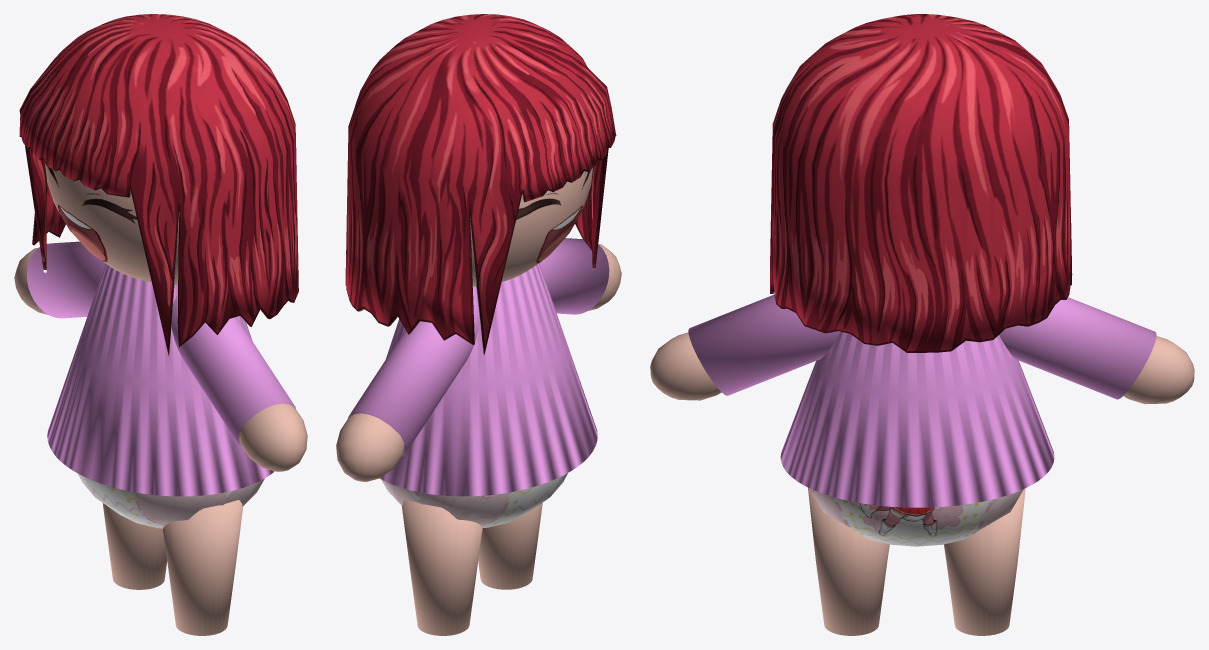
Rendered from diaperdoll.glb.
3 views of the same model, side by side, from view 1: azimuth 30°, elevation 25°; view 2: azimuth 150°, elevation 25°; view 3: azimuth 270°, elevation 25° (orthographic). The views are drawn at different scales.
Visible parts, largest first — view 1: head.001, head, head.002; view 2: head.001, head, head.002; view 3: head.001, head, head.002.
Part boxes in pixels (<box>): head.001: <box>19,14,298,355</box>; head: <box>14,163,307,635</box>; head.002: <box>47,264,274,496</box>; head.001: <box>345,14,616,356</box>; head: <box>336,168,621,635</box>; head.002: <box>380,263,597,496</box>; head.001: <box>770,14,1072,352</box>; head: <box>650,294,1194,635</box>; head.002: <box>780,332,1054,507</box>.
Size of the model in its own units: 2.36 by 5.7 by 4.75.
Materials: 5 (3 with a texture image).
